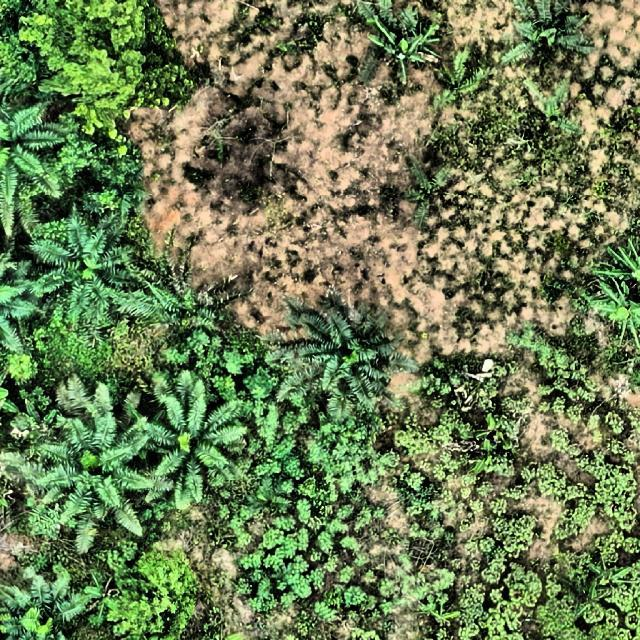Kelapa_Sawit: (25, 418, 153, 534), (294, 298, 402, 406), (37, 220, 132, 339), (140, 396, 240, 498), (0, 100, 52, 222), (517, 1, 600, 76), (368, 16, 448, 82)
